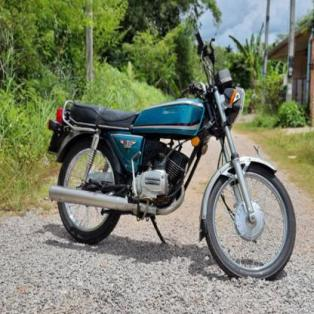Motocicleta: (42, 37, 298, 288)
